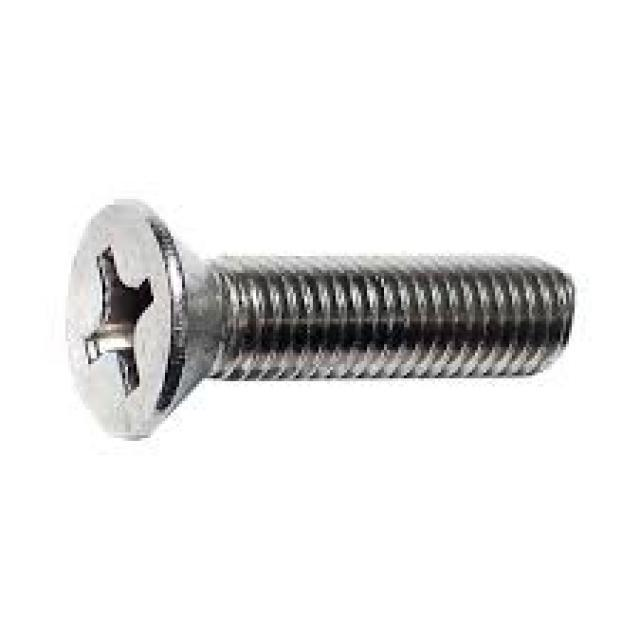Screw: (60, 199, 577, 441)
